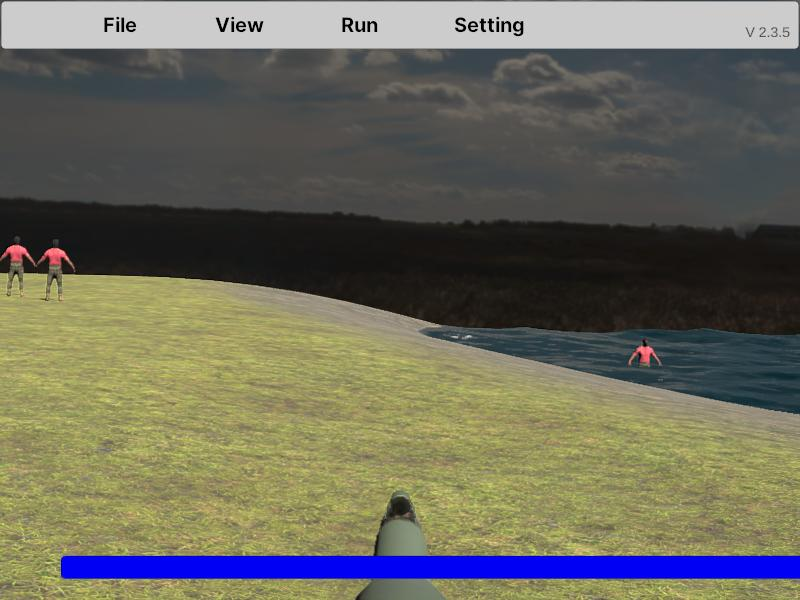Human: (36, 238, 76, 301), (0, 236, 37, 297), (629, 337, 661, 397)
